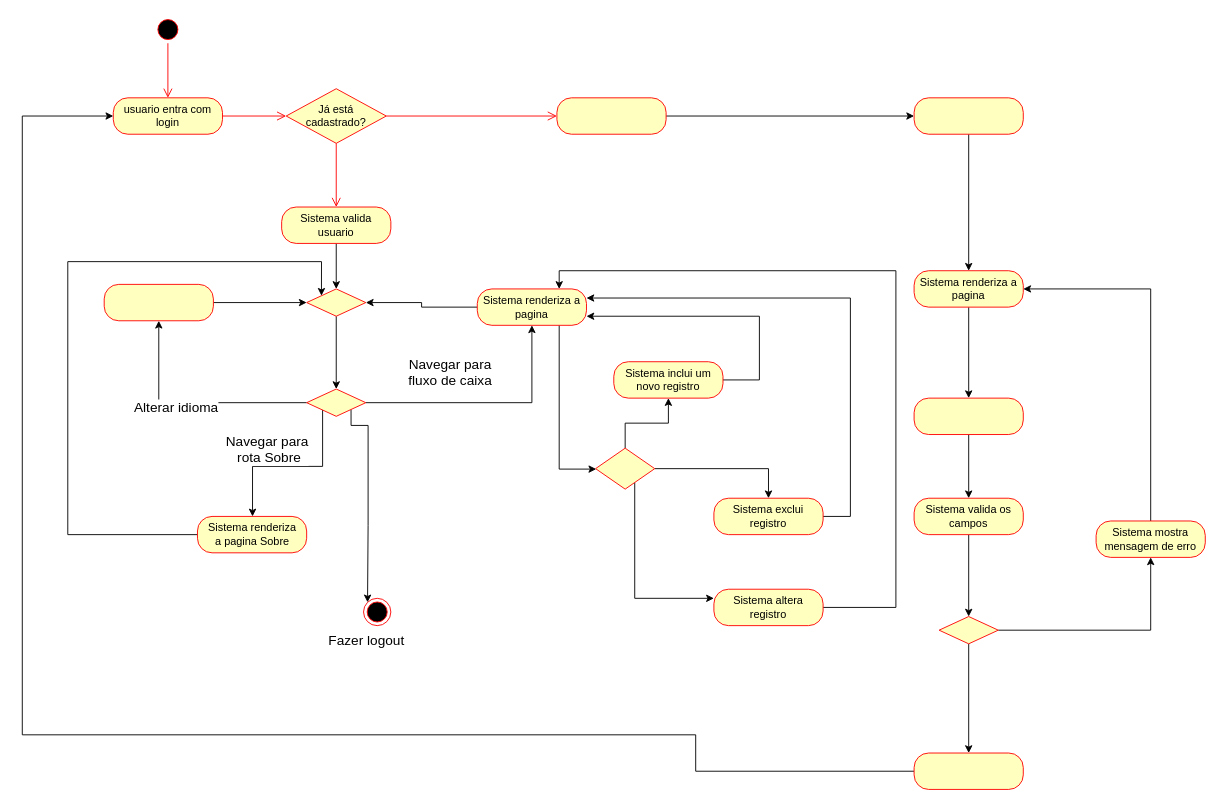
Some shapes in this 1221 by 806 pixel diagram are drawn without their labels. Here are the shapes that lost their labels. From the top down, the centre of each, then its label:
At point (611, 115): "Sistema Informa Usuario Não cadastrado".
At point (968, 115): "Usuario clica na pagina de cadastro de usuario".
At point (158, 302): "Sistema altera o idioma da interface".
At point (968, 416): "Usuario informa os dados conforme a descrição da tela".
At point (968, 770): "Sistema mostra mensagem de sucesso".
